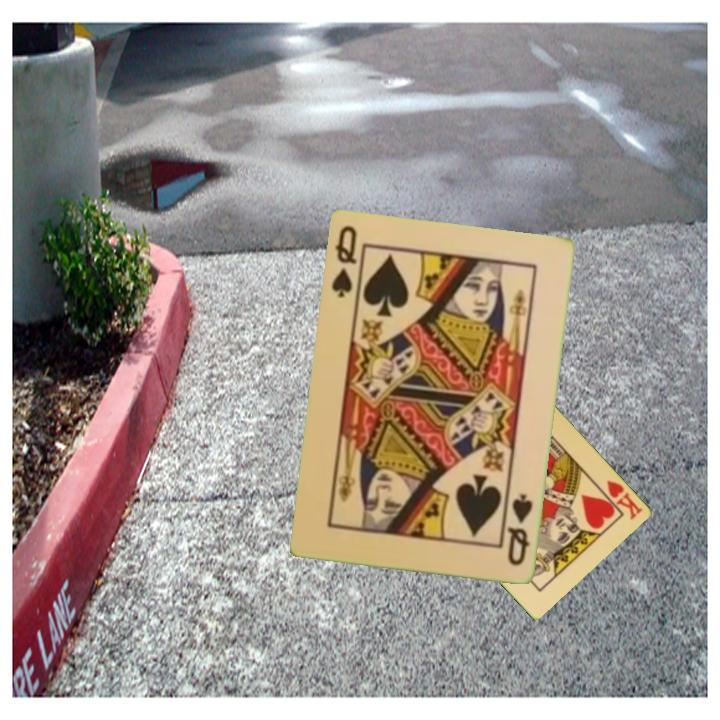Kh: (594, 476, 645, 523)
Qs: (498, 488, 535, 568), (327, 221, 360, 300)
